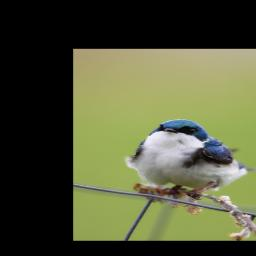Swallow: (123, 119, 256, 200)
